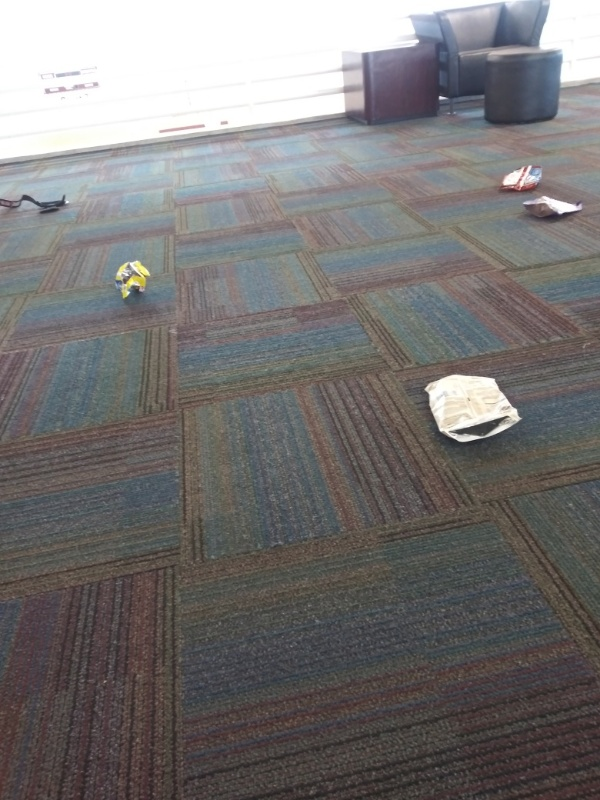bag: (418, 369, 526, 449), (105, 254, 160, 302), (515, 193, 590, 225), (491, 161, 555, 197)
